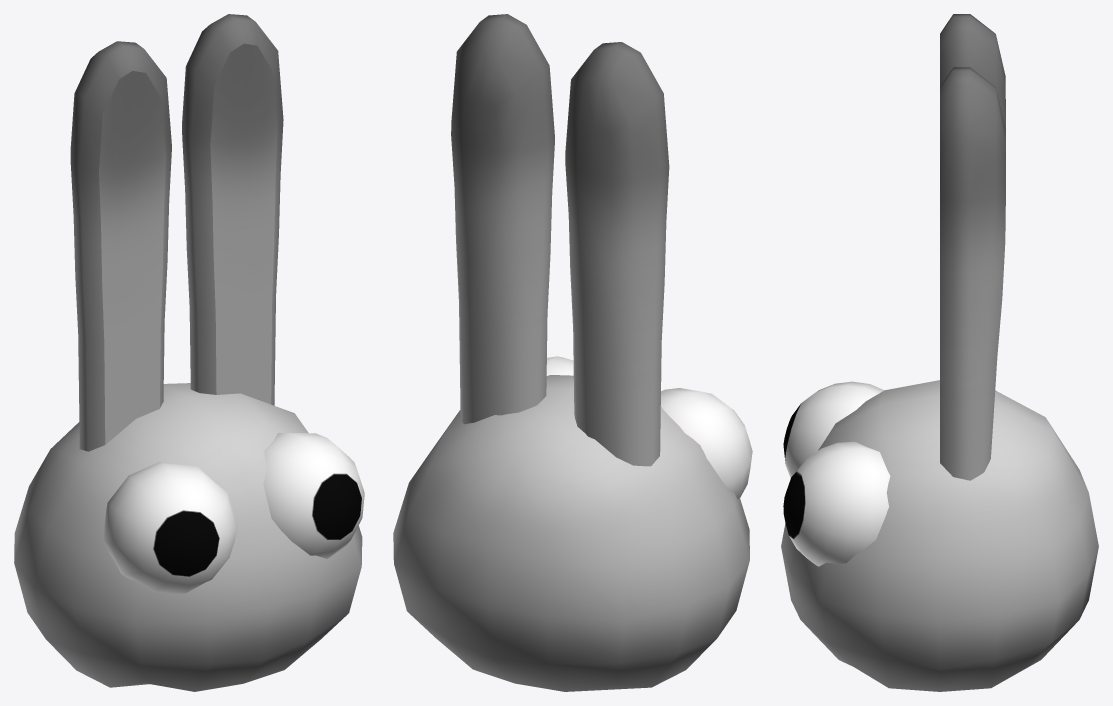
Rendered from enemy02_03.fbx.
3 renders of one model, left to right at view 1: azimuth 30°, elevation 25°; view 2: azimuth 150°, elevation 25°; view 3: azimuth 270°, elevation 25°, orthographic. The views are drawn at different scales.
Visible parts, largest first — view 1: polySurface6, polySurface5; view 2: polySurface6, polySurface5; view 3: polySurface6, polySurface5.
Boxes of the visible parts, bbox=[...] form: polySurface6: bbox=[14, 14, 362, 691]; polySurface5: bbox=[103, 433, 364, 593]; polySurface6: bbox=[393, 14, 749, 691]; polySurface5: bbox=[546, 356, 752, 499]; polySurface6: bbox=[781, 14, 1098, 691]; polySurface5: bbox=[783, 381, 890, 566].
Bounding box in the file's own units: 104 × 196 × 93.97.
2 materials, 2 textured.
